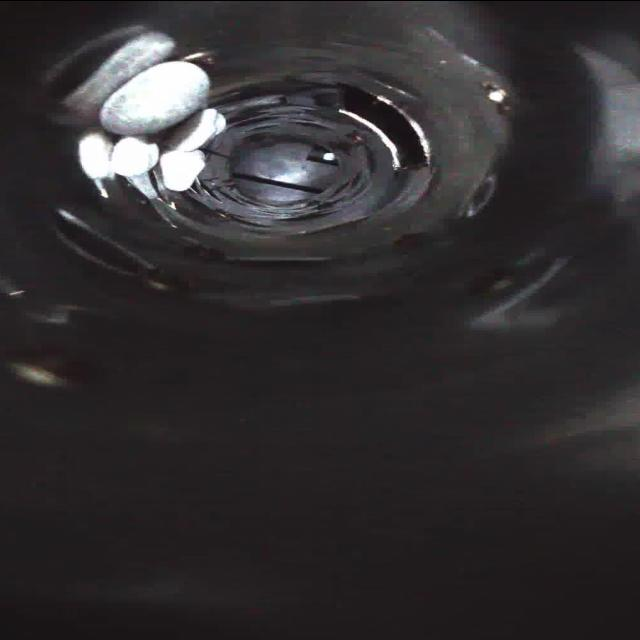crack: (205, 99, 282, 132), (246, 92, 315, 128), (327, 174, 383, 207), (209, 208, 275, 235), (271, 207, 345, 229), (354, 134, 386, 180), (177, 172, 229, 200)
hole: (328, 79, 433, 168)
